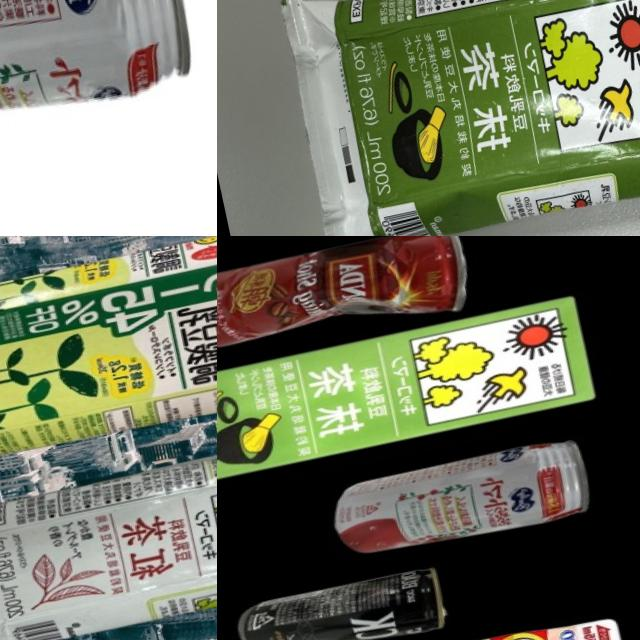Aluminium Foil: (280, 0, 640, 236), (217, 288, 603, 494), (0, 236, 217, 490), (0, 404, 217, 640)
Can: (324, 430, 600, 567), (0, 0, 209, 155), (217, 236, 470, 361), (242, 558, 447, 640)
